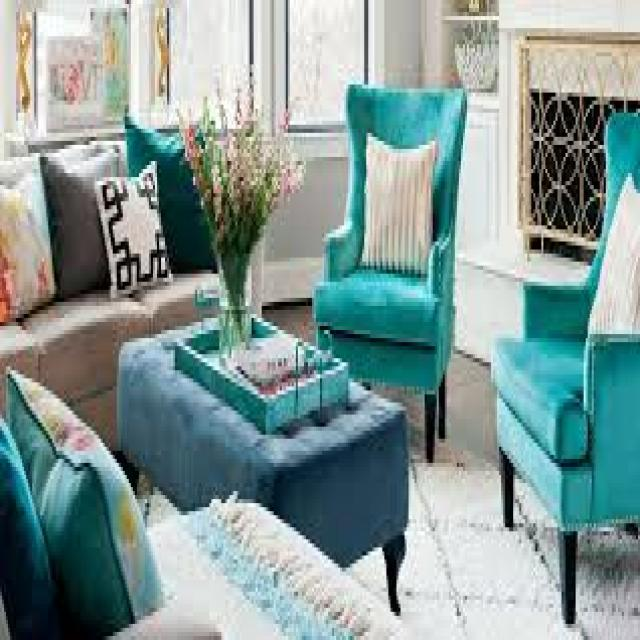Chair: (493, 107, 640, 625), (321, 71, 462, 450)
Sofa: (0, 128, 260, 418)
Table: (117, 334, 420, 588)
